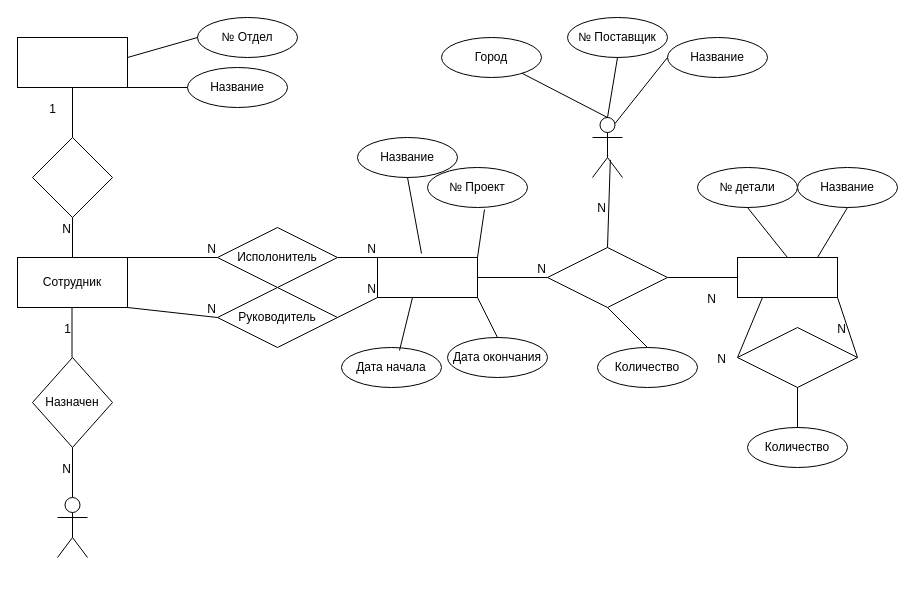
Image size: 915x596. Some labels were removed from this diagram. Here are the shapes that lost their labels. From the top down, the box of each, then its label:
(16, 36, 128, 88): Отдел
(592, 116, 622, 178): Поставщик
(32, 136, 112, 218): Включает
(376, 256, 478, 298): Проект
(546, 246, 668, 308): Поставка
(736, 256, 838, 298): Деталь
(736, 326, 858, 388): Компонент
(56, 496, 88, 558): Член бригады
